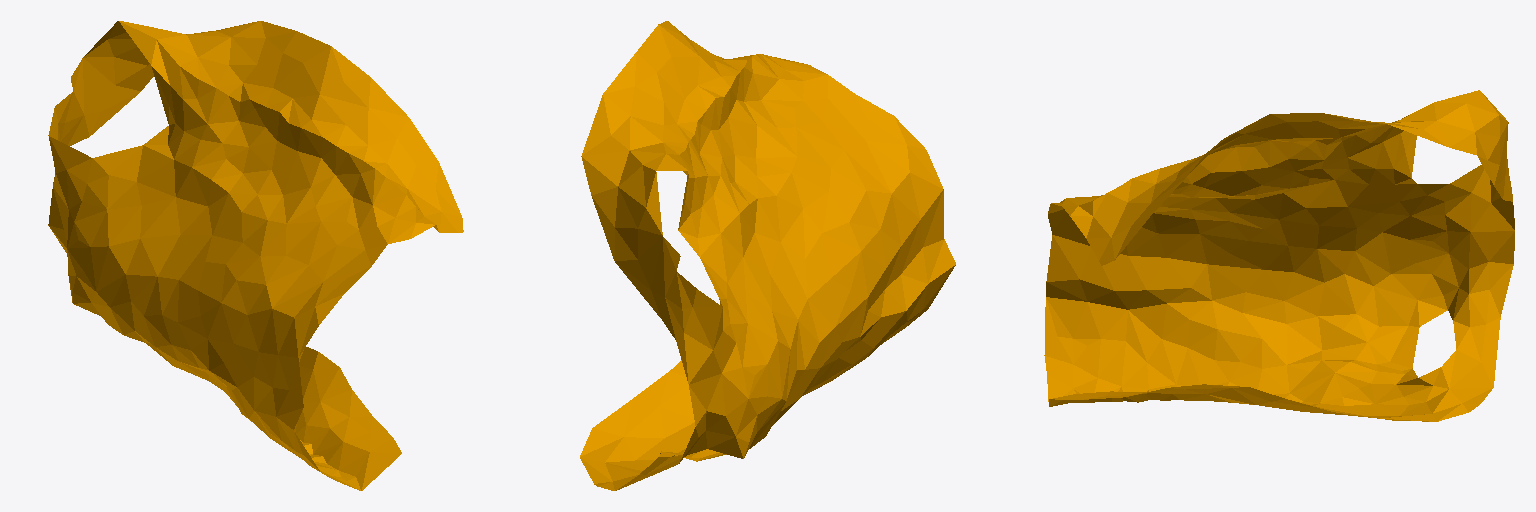
URDF robot description (init):
<?xml version='1.0' encoding='utf-8'?>
<robot name="init">
<link name="link_0"><inertial><mass value="1.0" /><origin rpy="0 0 0" xyz="0.000000 0.000000 0.000000" /><inertia ixx="1.0" ixy="0.0" ixz="0.0" iyy="1.0" iyz="0.0" izz="1.0" /></inertial><visual><origin rpy="0 0 0" xyz="0.000000 0.000000 0.000000" /><geometry><mesh filename="./clothHuman/cloth/2660.obj" /></geometry></visual><collision><origin rpy="0 0 0" xyz="0.000000 0.000000 0.000000" /><geometry><mesh filename="./clothHuman/cloth/2660.obj" /></geometry></collision></link></robot>

--- Render facts (derived) ---
The picture shows the robot from 3 angles, left to right: view 1: azimuth 30°, elevation 25°; view 2: azimuth 150°, elevation 25°; view 3: azimuth 270°, elevation 25°; orthographic projection.
Model init with 1 links and 0 joints (none), rooted at link_0, posed every joint at zero.
Visible links, largest first — view 1: link_0; view 2: link_0; view 3: link_0.
Link boxes in pixels (x1,y1,x2,y2): link_0: [48, 21, 463, 490]; link_0: [580, 21, 955, 490]; link_0: [1044, 90, 1514, 421].
Size in the robot's own frame: 2.01 by 3.75 by 2.92 metres.
1 mesh visuals loaded from 1 distinct referenced files (1 OBJ).